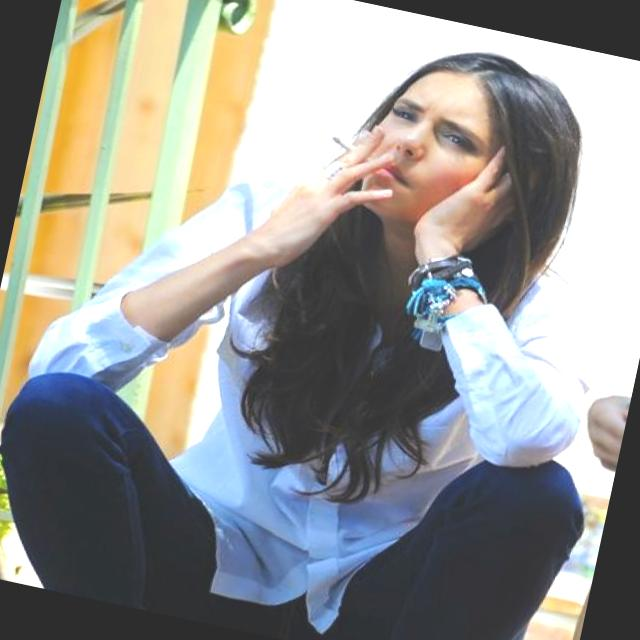cigarette: (322, 130, 367, 166)
